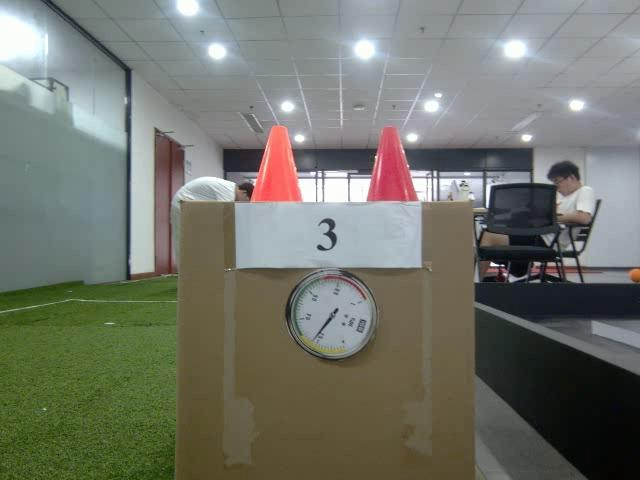3: (315, 217, 340, 253)
Dashboard: (287, 271, 379, 360)
orange_barrel: (247, 125, 305, 202)
red_barrel: (367, 126, 420, 201)
ssi: (356, 316, 368, 335)
